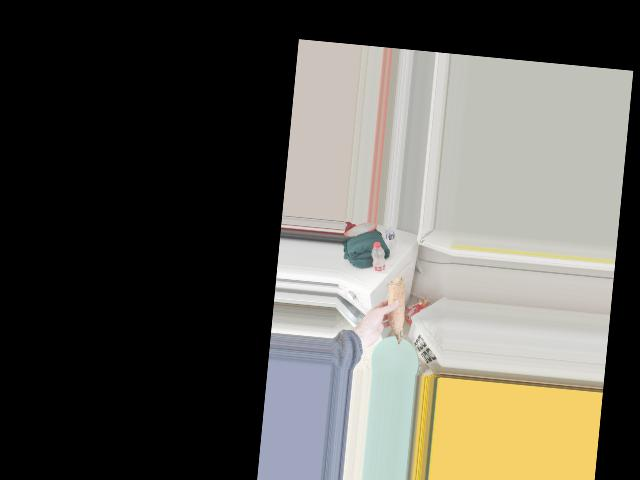sweet_potato: (378, 272, 409, 346)
